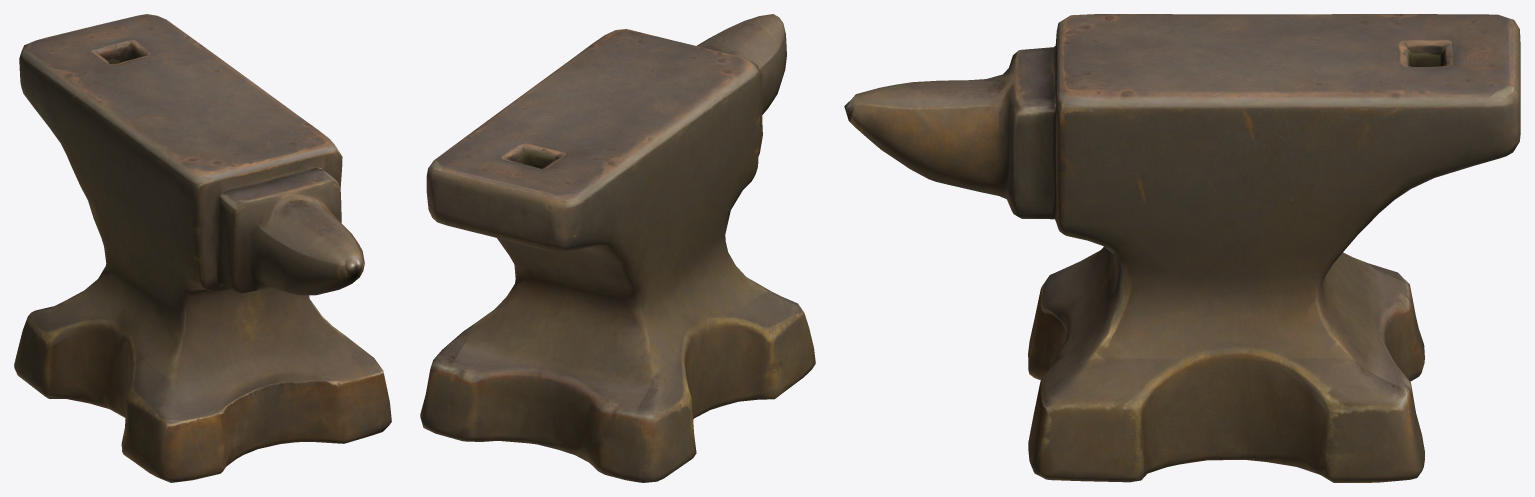
Rendered from Anvil_Scene_0405085312_texture.fbx.
3 renders of one model, left to right at view 1: azimuth 30°, elevation 25°; view 2: azimuth 150°, elevation 25°; view 3: azimuth 270°, elevation 25°, orthographic. The views are drawn at different scales.
Parts seen in each view (by area): view 1: Mesh1; view 2: Mesh1; view 3: Mesh1.
Part boxes in pixels (x1=…): Mesh1: x1=14, y1=14, x2=391, y2=482; Mesh1: x1=420, y1=14, x2=815, y2=482; Mesh1: x1=844, y1=14, x2=1520, y2=482.
Bounding box in the file's own units: 99.7 × 119 × 200.
1 material, 1 textured.
